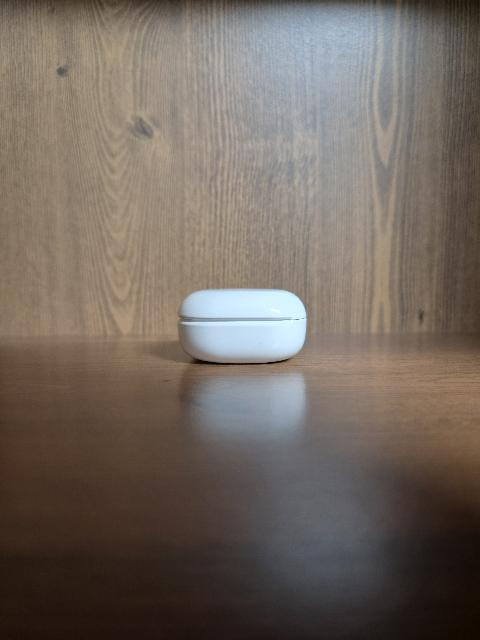earphone_case: (177, 287, 307, 364)
